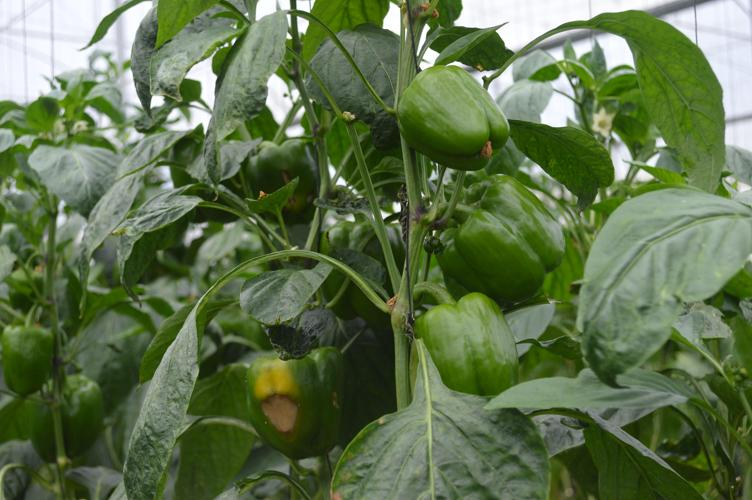BellPepper: (435, 176, 563, 299), (411, 294, 525, 396), (400, 67, 507, 170), (248, 347, 344, 459), (21, 377, 104, 462), (246, 139, 318, 212), (4, 325, 57, 394)
